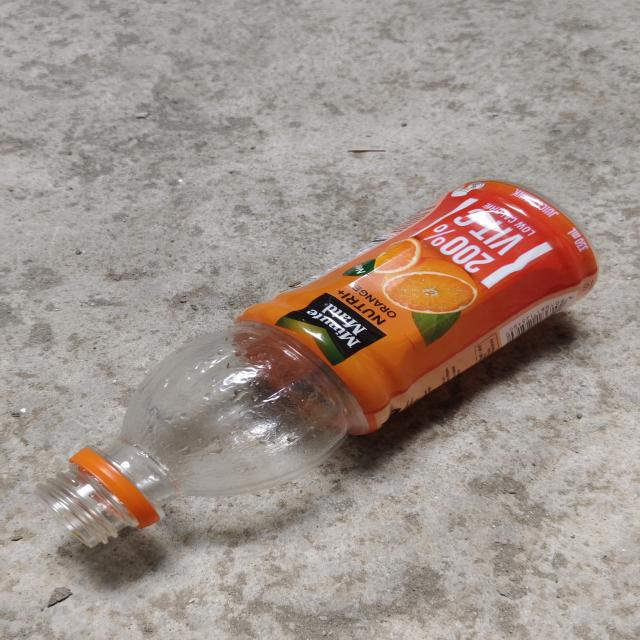Bottle: (35, 180, 598, 548)
